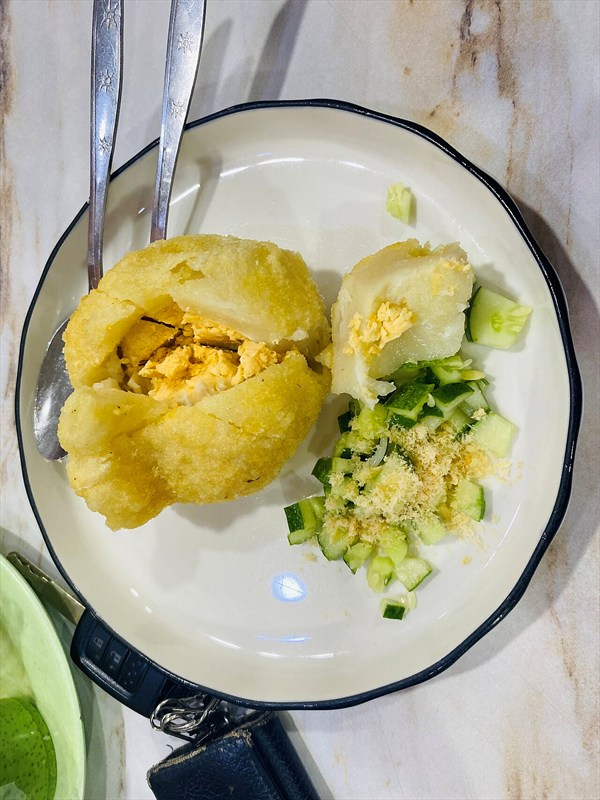Pempek: (32, 172, 572, 761)
